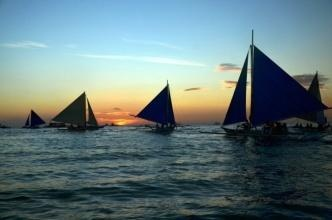fanchuan: (244, 51, 329, 150), (288, 69, 330, 131), (222, 54, 252, 138), (136, 84, 183, 132), (53, 92, 100, 136), (23, 108, 44, 132)
